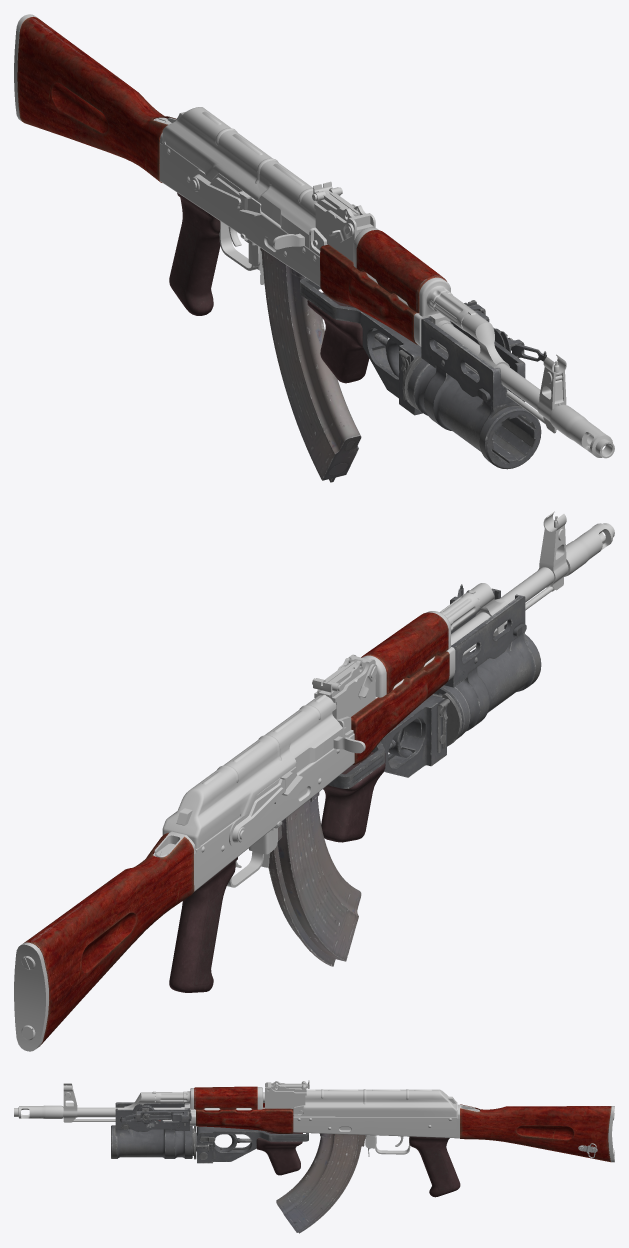
The picture shows the model from 3 angles, top to bottom: view 1: azimuth 30°, elevation 25°; view 2: azimuth 150°, elevation 25°; view 3: azimuth 270°, elevation 25°; orthographic projection. The views are drawn at different scales.
Visible parts, largest first — view 1: stock_low, mag_low, Cylinder021_low, receiver_cap_low, lower_receiver_low, grip_low, Object031_low, handguard_low, Cylinder012_low, Plane004_low, Line001_low, barrel_low (+9 smaller); view 2: stock_low, mag_low, receiver_cap_low, grip_low, lower_receiver_low, Cylinder021_low, Plane004_low, handguard_low, Cylinder012_low, Object031_low, Object002_low, Line001_low (+9 smaller); view 3: stock_low, mag_low, receiver_cap_low, lower_receiver_low, Cylinder021_low, handguard_low, Plane004_low, grip_low, Cylinder012_low, Object031_low, Line001_low, Plane003_low (+9 smaller).
Part boxes in pixels (bbox=[...]): stock_low: bbox=[17, 16, 176, 182]; mag_low: bbox=[260, 248, 361, 482]; Cylinder021_low: bbox=[407, 359, 541, 469]; receiver_cap_low: bbox=[162, 107, 317, 215]; lower_receiver_low: bbox=[159, 142, 327, 286]; grip_low: bbox=[169, 192, 220, 315]; Object031_low: bbox=[421, 317, 525, 406]; handguard_low: bbox=[320, 244, 417, 344]; Cylinder012_low: bbox=[356, 230, 446, 313]; Plane004_low: bbox=[300, 278, 422, 415]; Line001_low: bbox=[307, 292, 369, 383]; barrel_low: bbox=[257, 184, 315, 249]; stock_low: bbox=[24, 833, 194, 1045]; mag_low: bbox=[268, 792, 361, 966]; receiver_cap_low: bbox=[162, 694, 336, 848]; grip_low: bbox=[169, 857, 237, 992]; lower_receiver_low: bbox=[194, 733, 354, 891]; Cylinder021_low: bbox=[433, 629, 541, 738]; Plane004_low: bbox=[328, 695, 446, 788]; handguard_low: bbox=[351, 651, 449, 764]; Cylinder012_low: bbox=[361, 612, 448, 693]; Object031_low: bbox=[444, 588, 525, 687]; Object002_low: bbox=[14, 942, 48, 1051]; Line001_low: bbox=[321, 752, 385, 842]; stock_low: bbox=[460, 1104, 611, 1162]; mag_low: bbox=[276, 1133, 365, 1233]; receiver_cap_low: bbox=[305, 1089, 457, 1116]; lower_receiver_low: bbox=[293, 1110, 459, 1138]; Cylinder021_low: bbox=[111, 1125, 192, 1158]; handguard_low: bbox=[196, 1103, 293, 1133]; Plane004_low: bbox=[197, 1126, 308, 1163]; grip_low: bbox=[409, 1136, 460, 1197]; Cylinder012_low: bbox=[194, 1086, 257, 1109]; Object031_low: bbox=[115, 1102, 189, 1131]; Line001_low: bbox=[256, 1131, 302, 1175]; Plane003_low: bbox=[263, 1081, 306, 1108].
Size of the model in its own units: 8.26 by 25.81 by 93.22.
